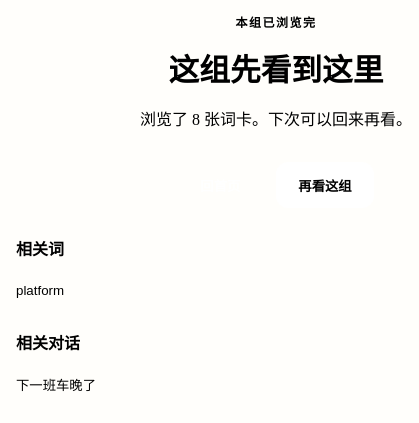
Scenario: renders topic links with routes only and does not invent a missing reading
The image size is (419, 423).
Click the button "下一班车晚了" at {"x": 56, "y": 384}, box [16, 362, 96, 406]
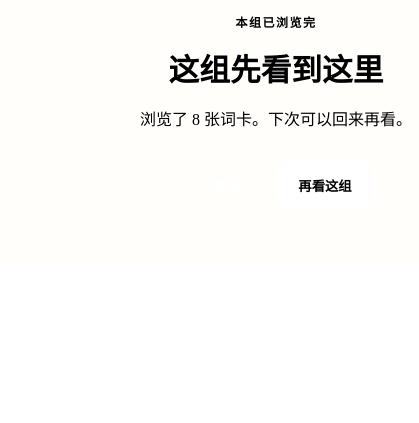
Expected: the navigation bar with class "doli-topic-related" is gone
